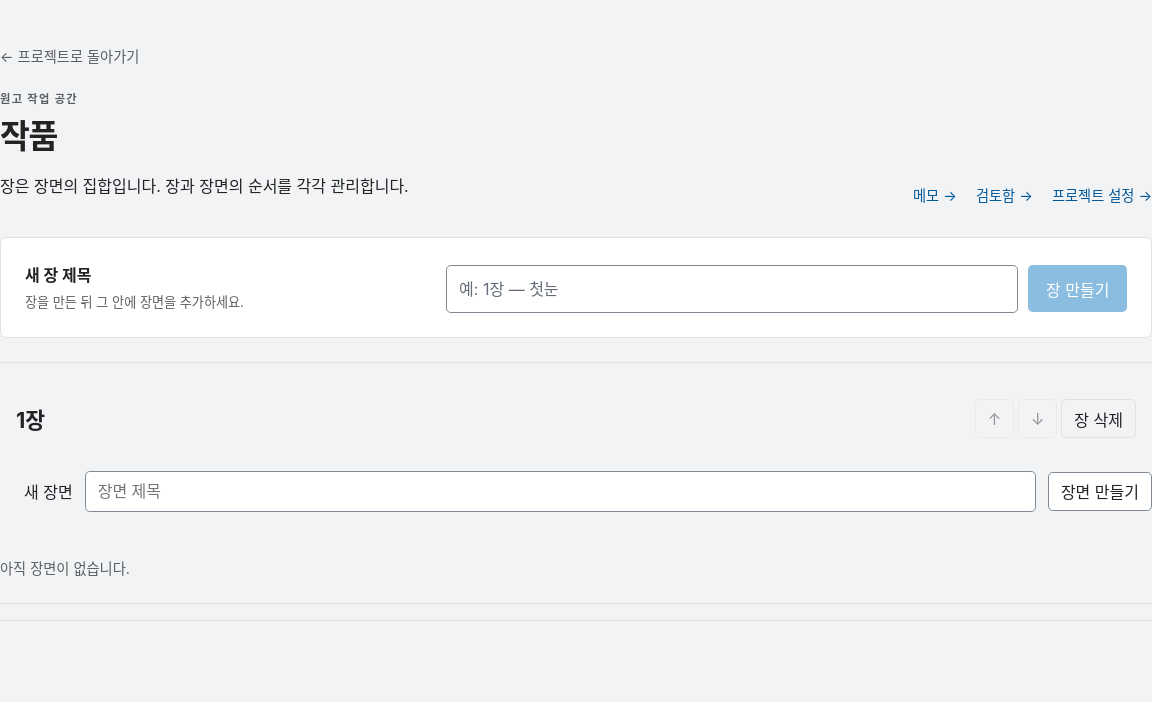
DraftList Chapter→Scene hierarchy › does not mistake an archive-stage 404 for a completed purge
Expected: the text "1장" is shown, [16,407,45,433]
Step 1. Click the button with aria-label "1장 삭제" → (1099, 419), box [1061,399,1136,438]
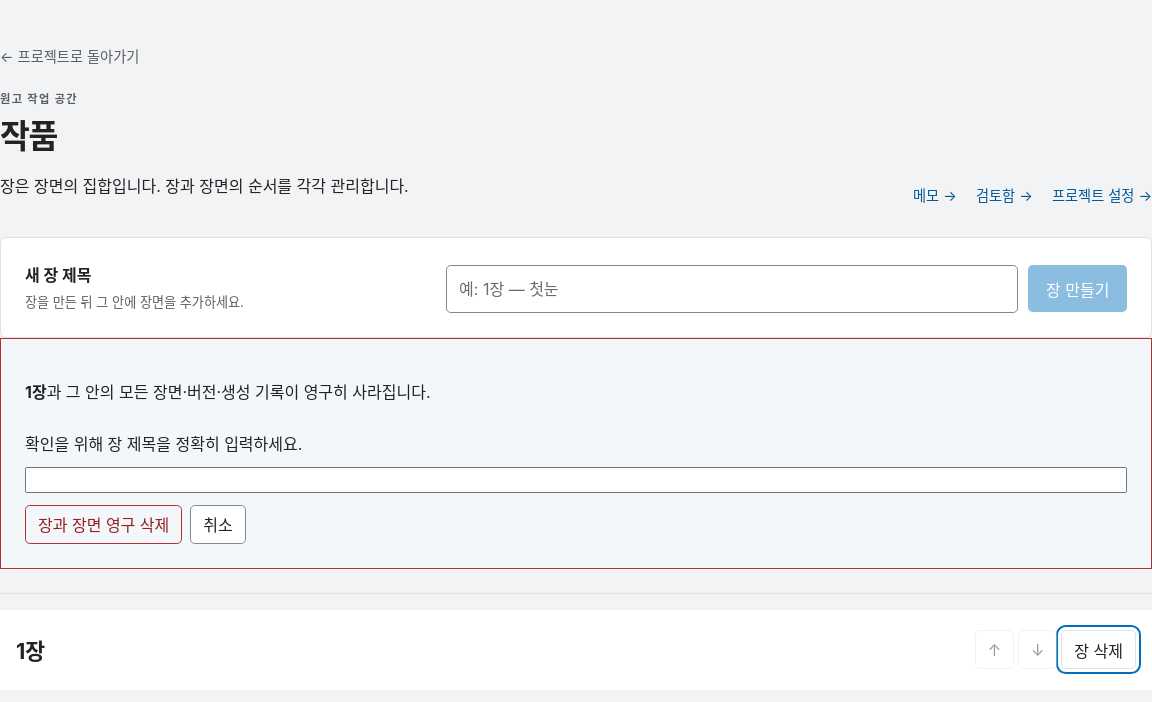
Step 2. Type "1장" into the field labelled "확인을 위해 장 제목을 정확히 입력하세요." → (576, 480), box [25,467,1127,493]
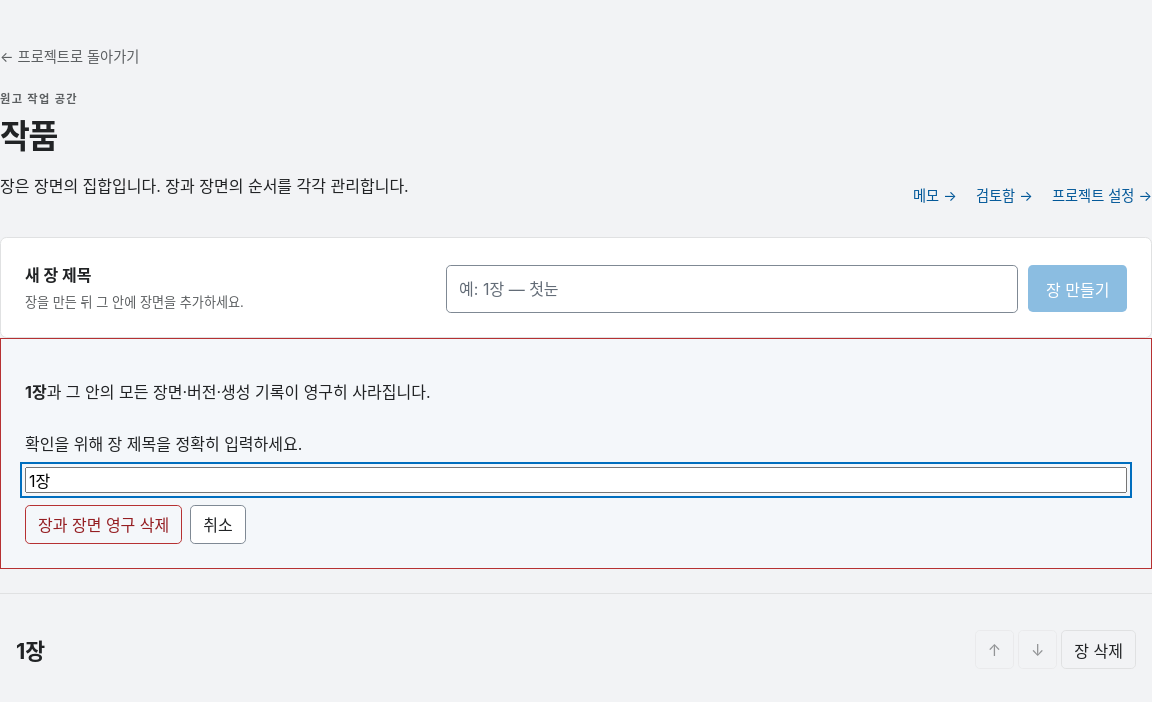
Step 3. Click the button "장과 장면 영구 삭제" → (104, 524), box [25,505,182,544]
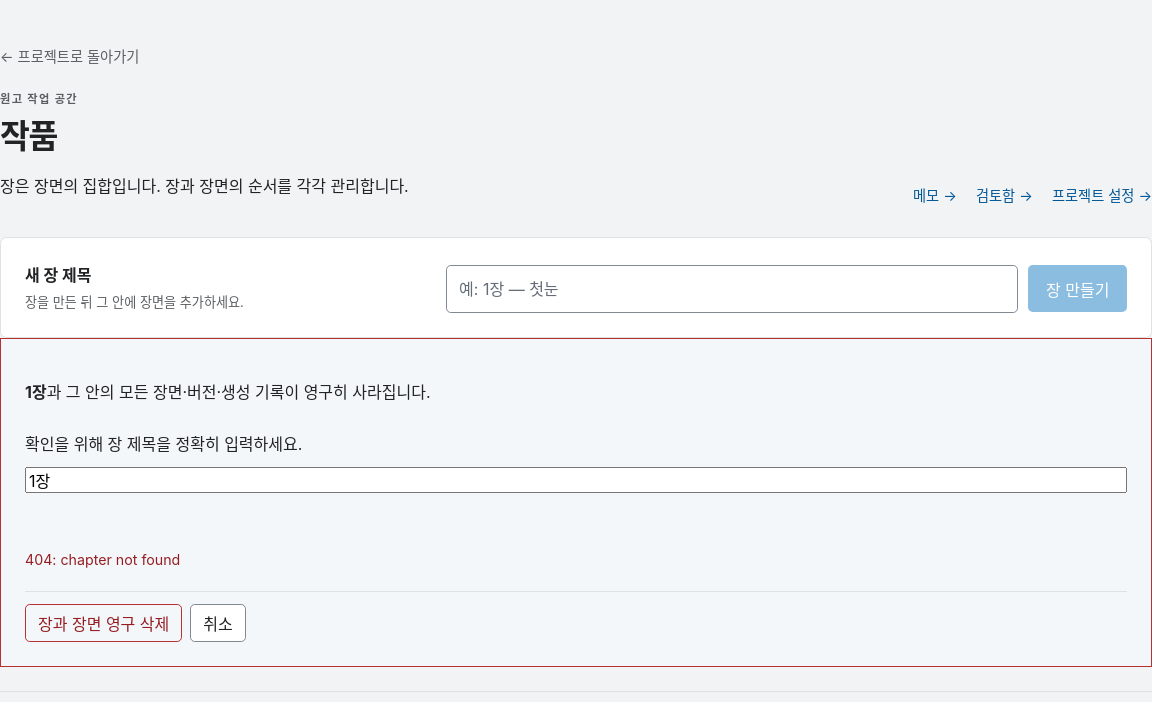
Result: the dialog named "장 삭제 확인" is shown at [0,338,1151,667]
Result: the message reads "404: chapter not found" at [25,551,180,568]
